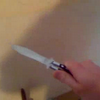knife: (11, 44, 73, 76)
